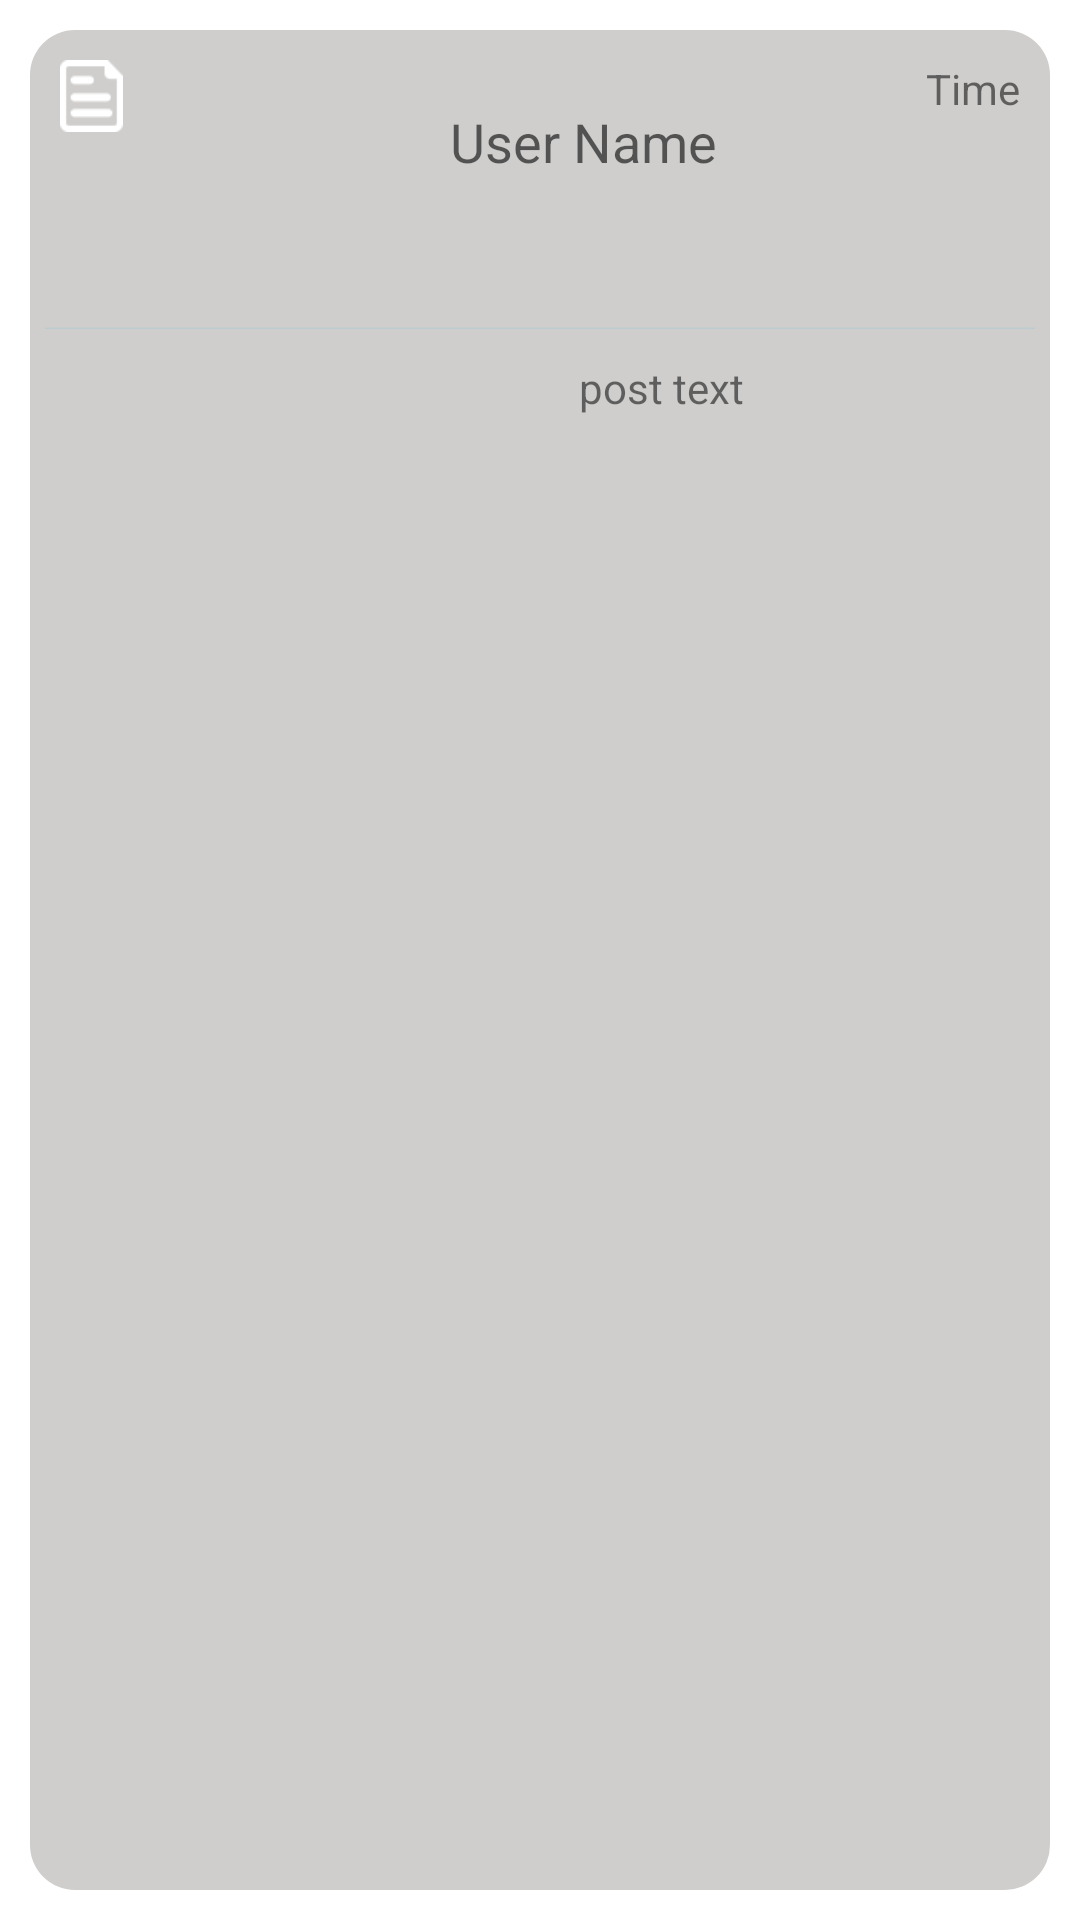

Icons on this 1080×1920 Android screen, each with the point to tap as (x,y):
publicposticon: (91,96)
